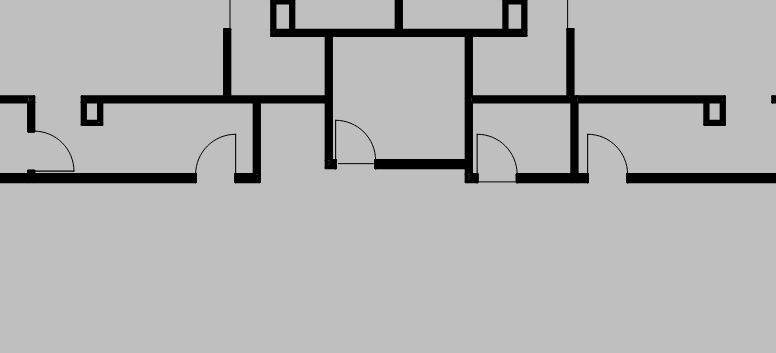door: (473, 129, 520, 194), (584, 131, 635, 190), (331, 114, 378, 175), (193, 126, 239, 188), (23, 129, 77, 175)
